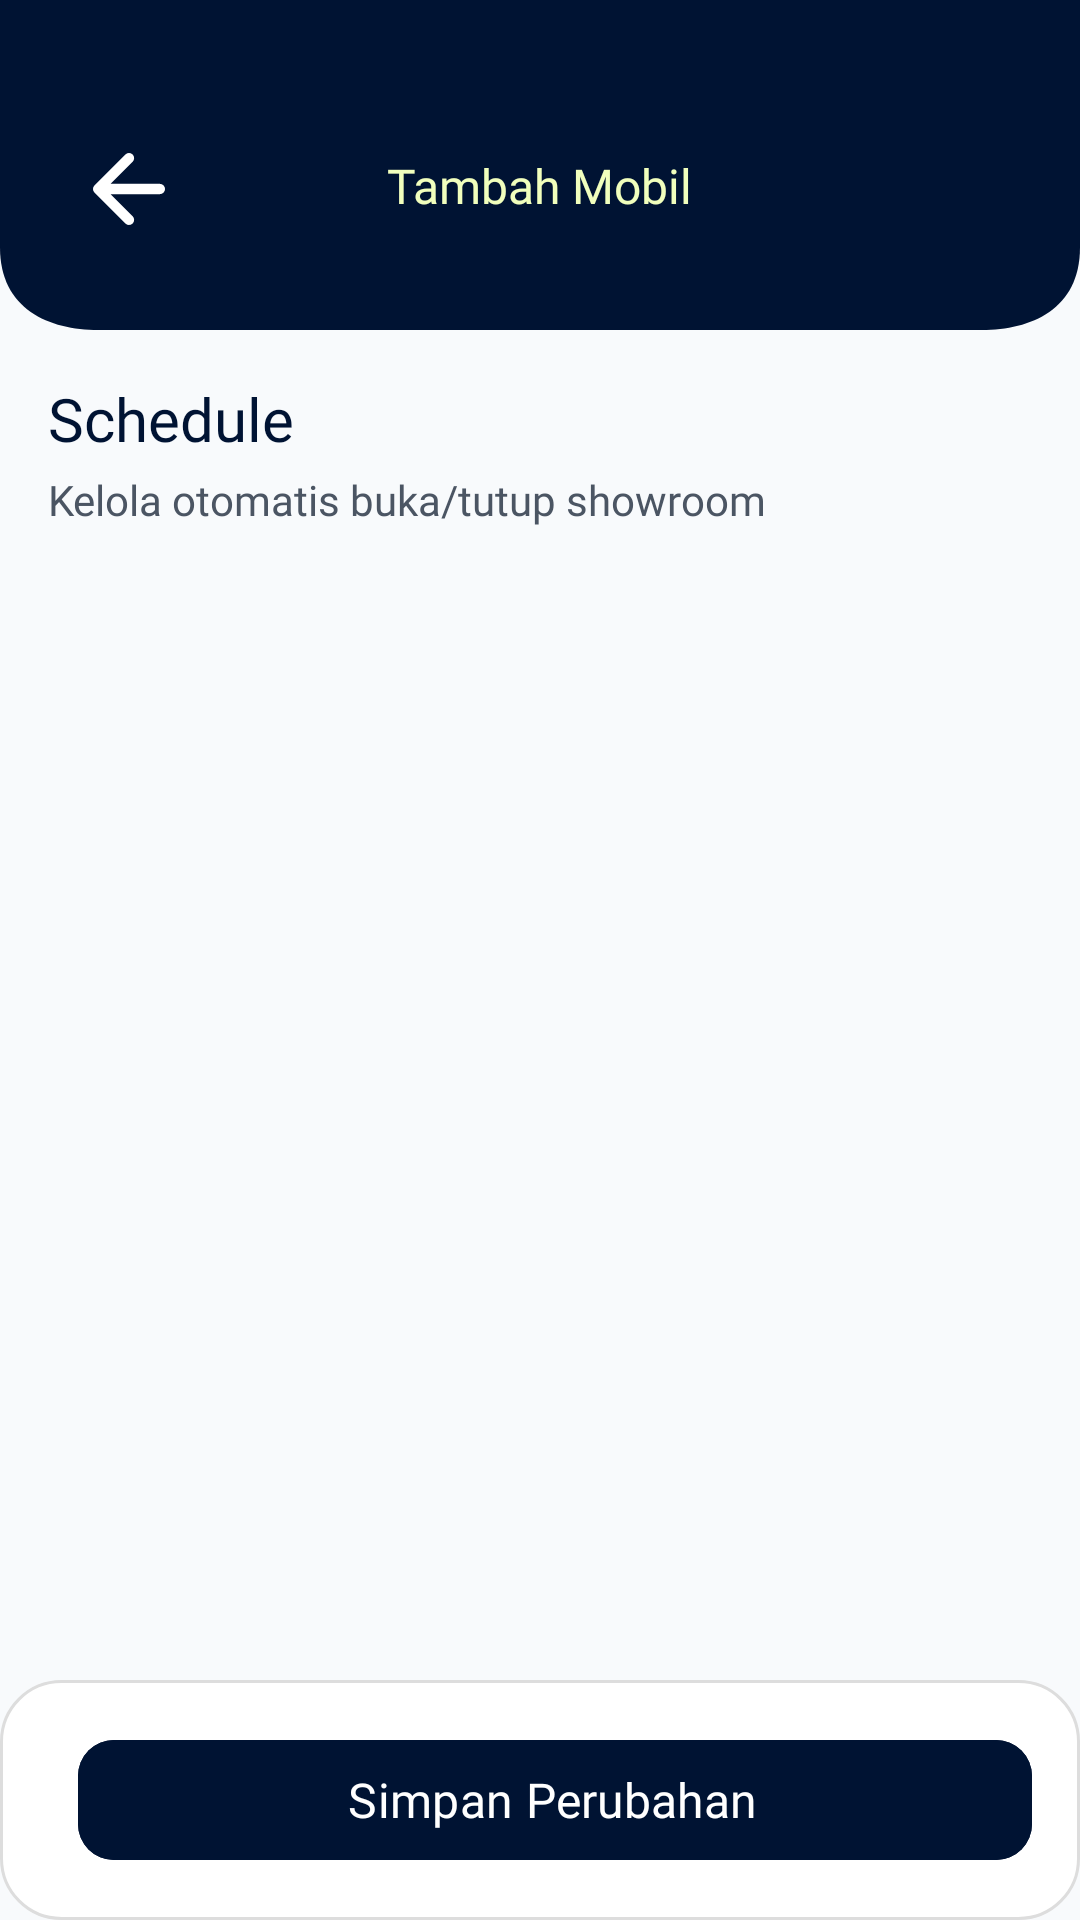

Named icons in this screenshot (1080px x 1920px) and their bounding boxes, (x1, y1, x2, y2):
back: (93, 153, 165, 225)
